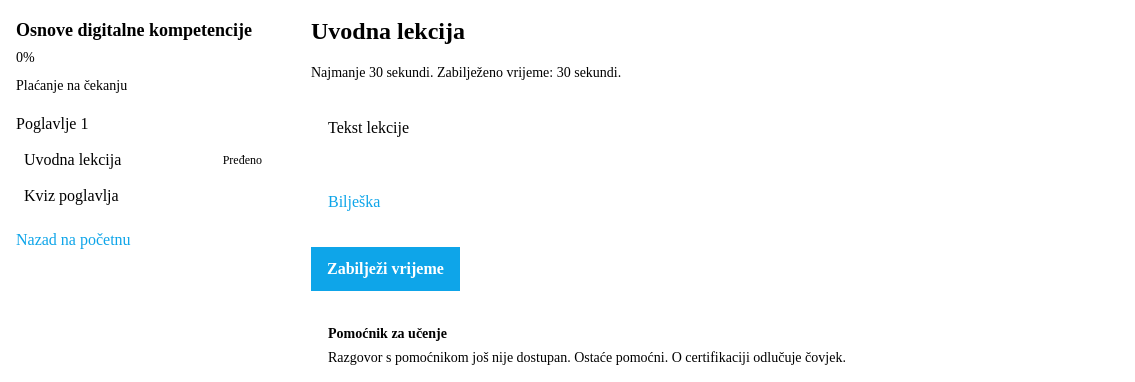
Test: CoursePlayerPage › shows chapter navigation, completed lesson text and the assistant placeholder
Expected: the heading "Osnove digitalne kompetencije" is shown, [16, 16, 270, 44]
Expected: the text "Pređeno" is shown, [223, 152, 262, 168]
Click the button "Kviz poglavlja": (143, 196) [16, 180, 270, 212]
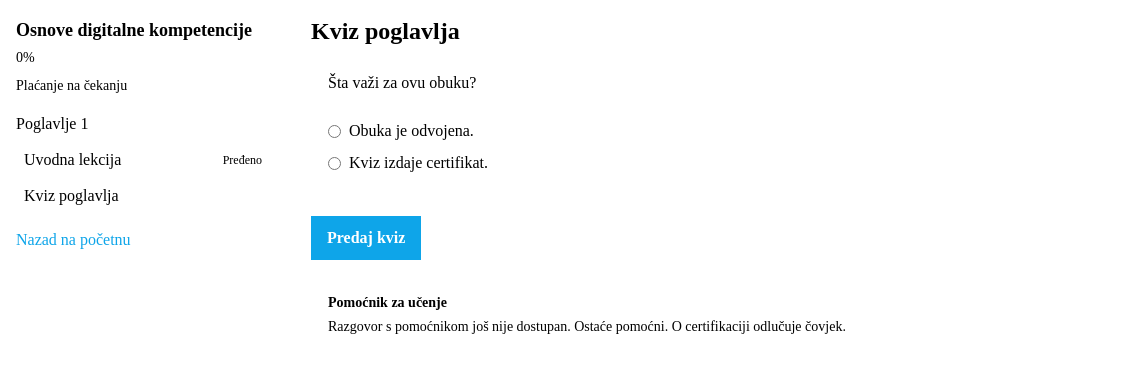
Expected: the element that starts with "Pomoćnik za učenje" shows "Razgovor s pomoćnikom još nije dostupan", [328, 319, 846, 334]
Now the element "Šta važi za ovu obuku?" is shown, box [311, 71, 1119, 192]
